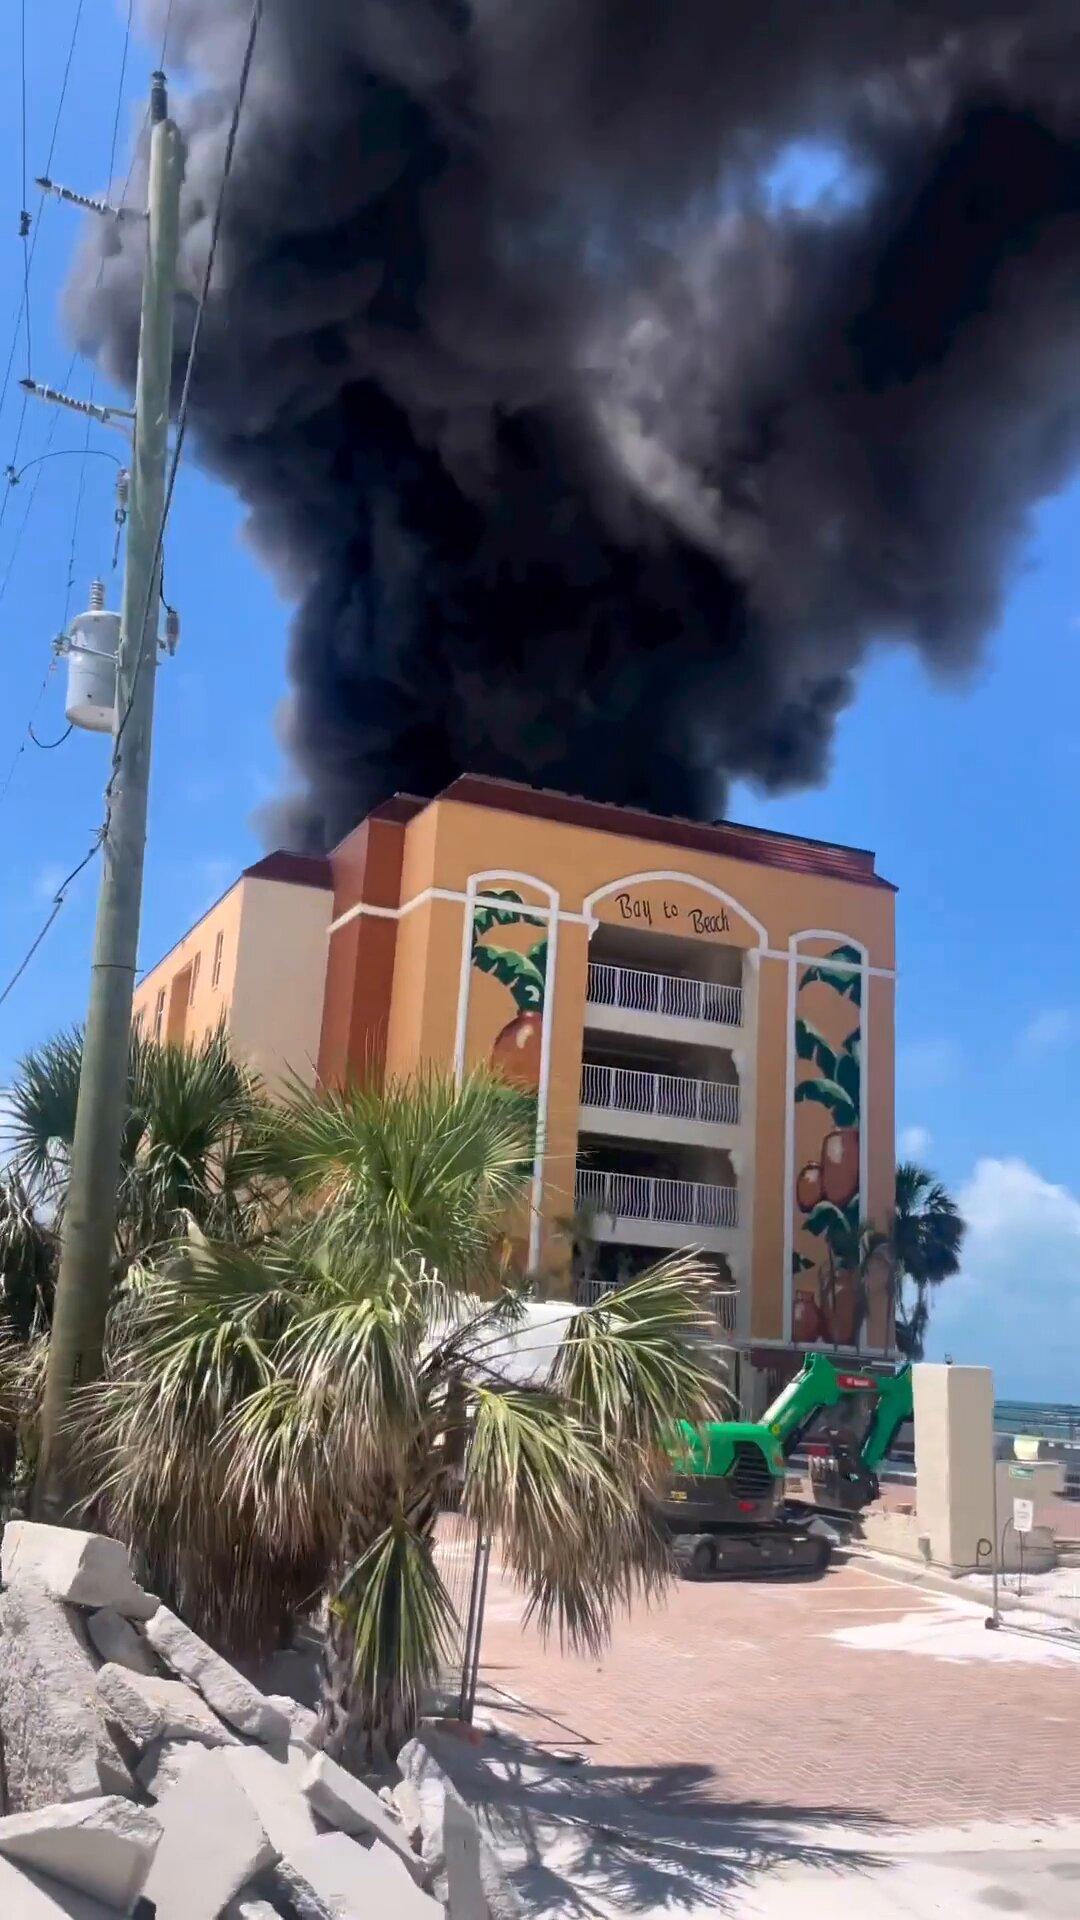smoke: (240, 0, 972, 798)
